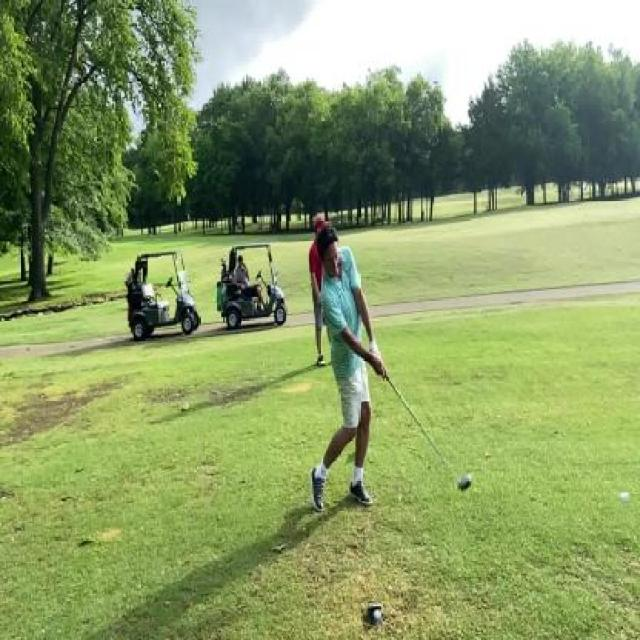club head: (454, 472, 472, 492)
